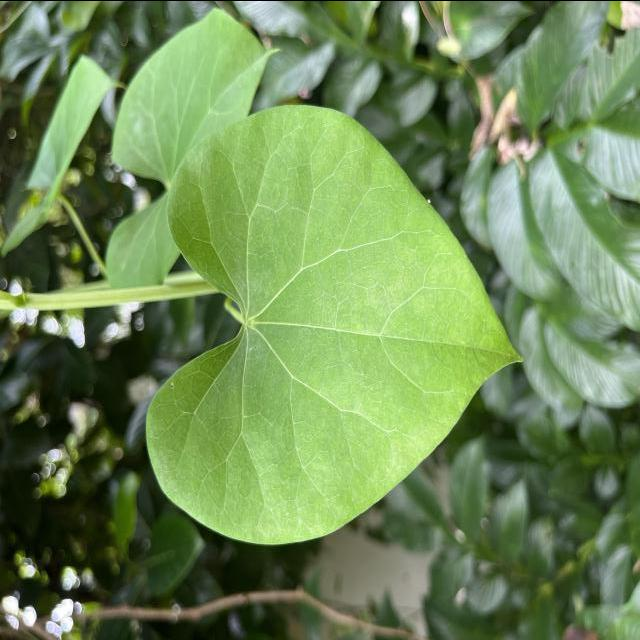Tinospora cordifolia: (135, 96, 532, 552)
